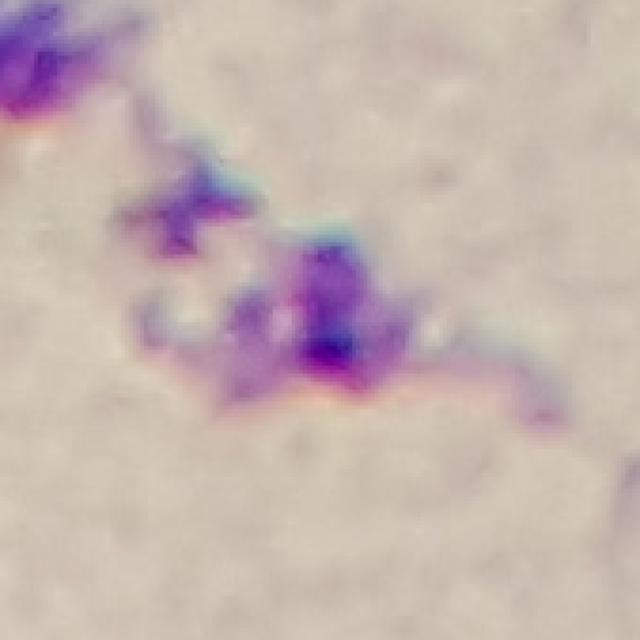non-sperm: (120, 160, 457, 410)
